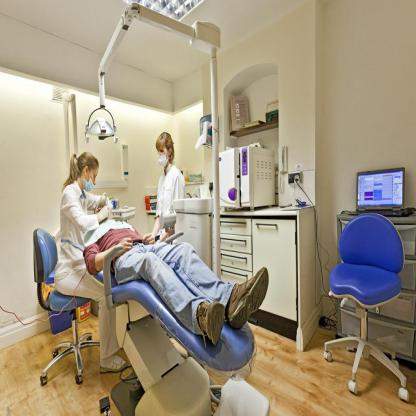face: (157, 142, 170, 166), (88, 164, 99, 192), (94, 207, 108, 221)
